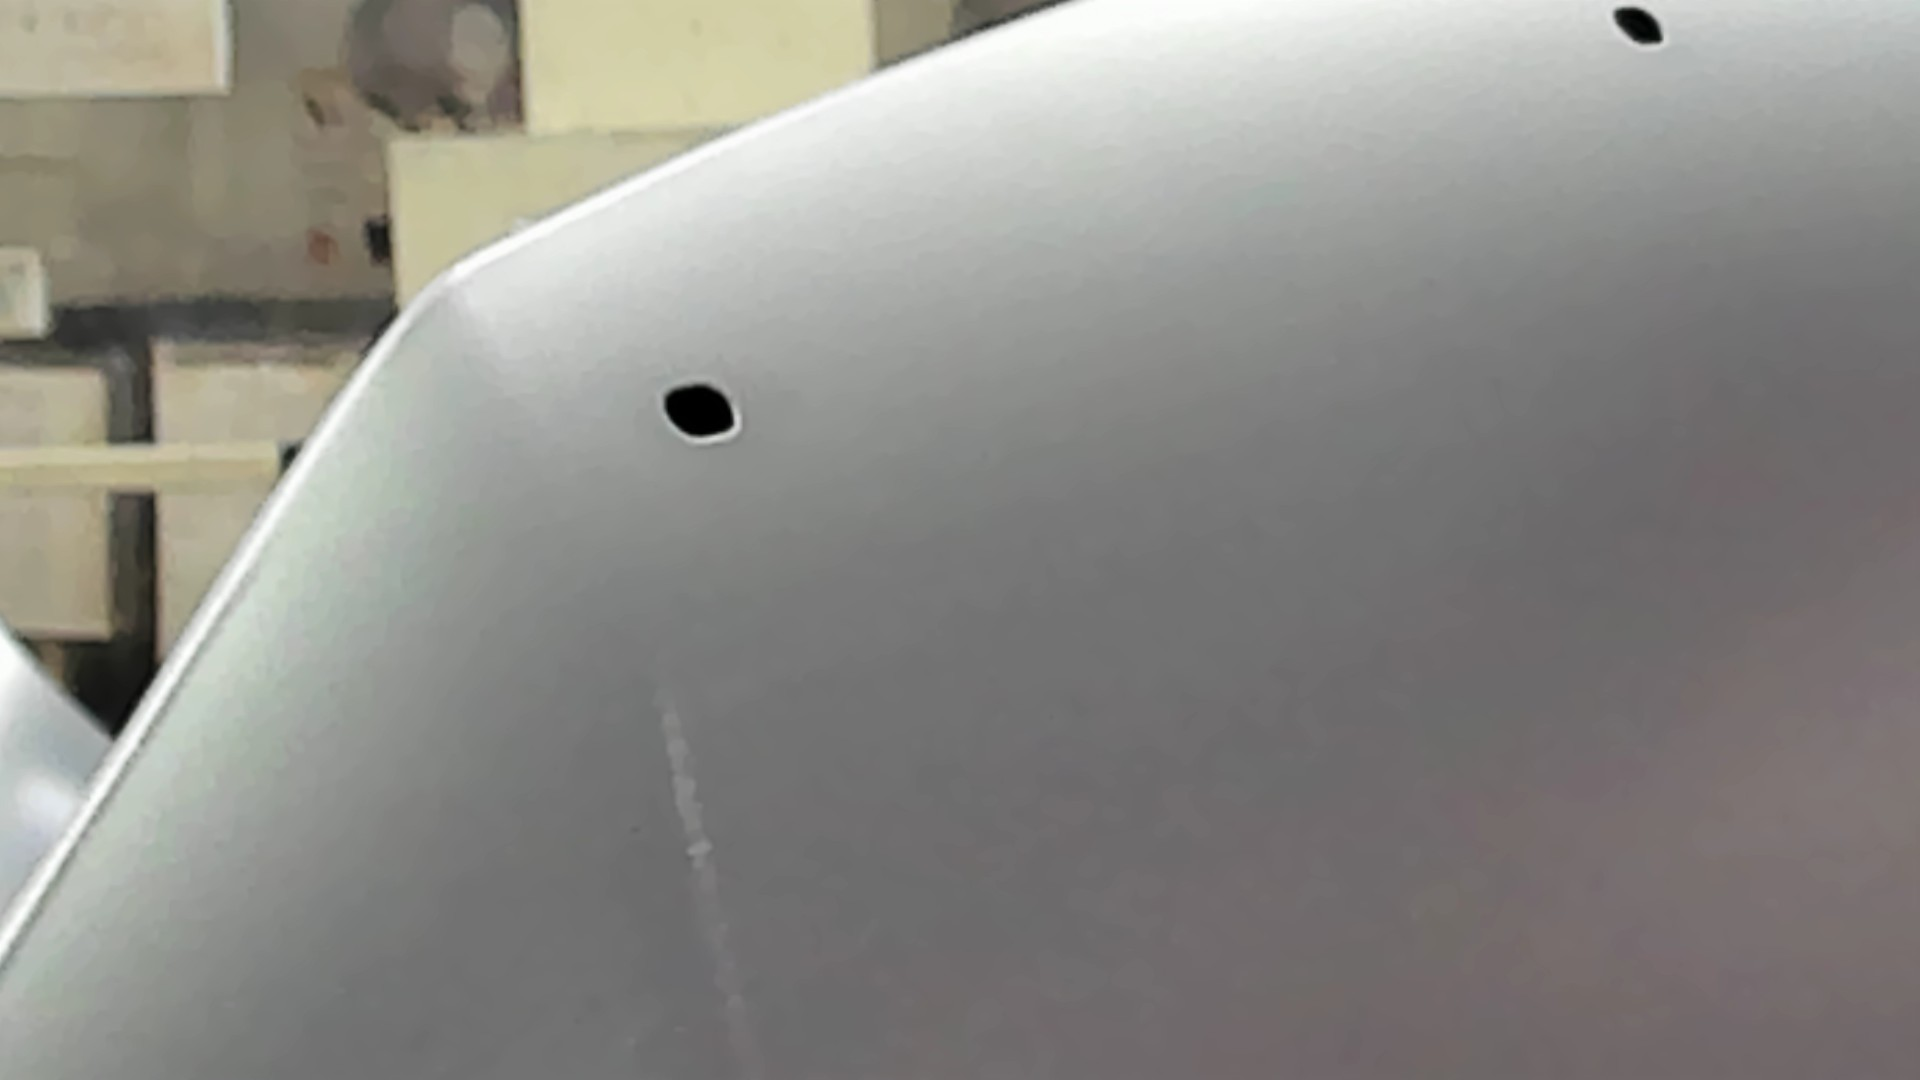amorfo: (658, 375, 745, 450), (1601, 1, 1673, 55)
capo: (779, 160, 1920, 1080)
